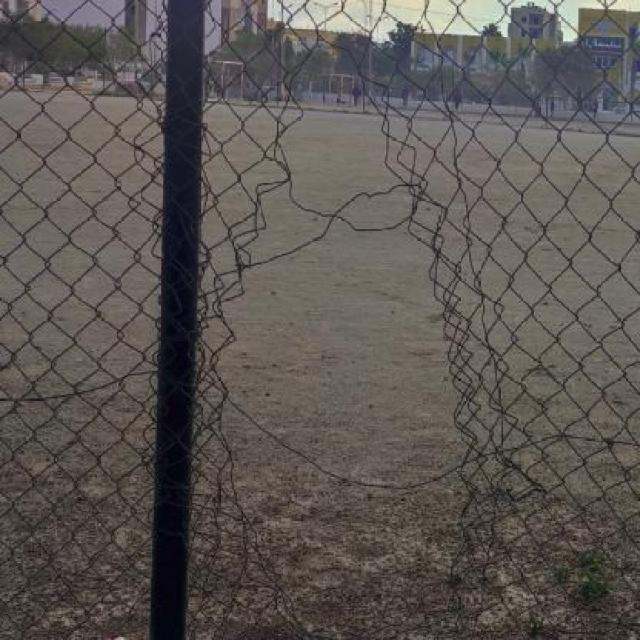fence line: (229, 49, 486, 586)
